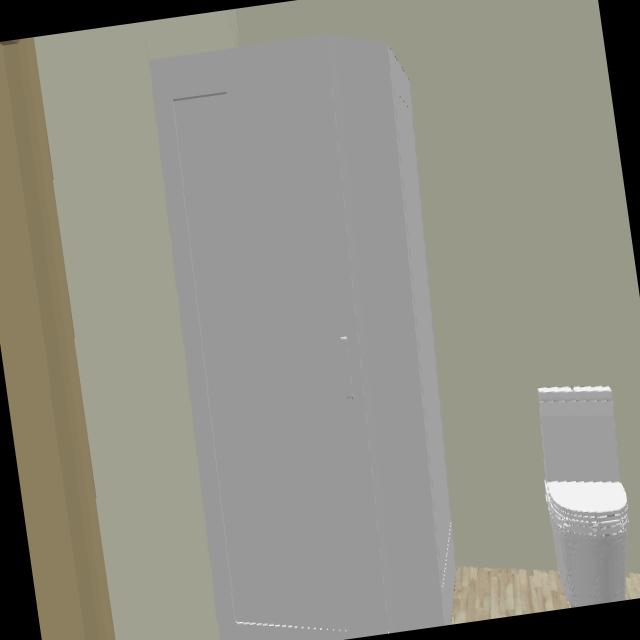shower: (149, 34, 457, 640)
toilet: (537, 388, 628, 606)
